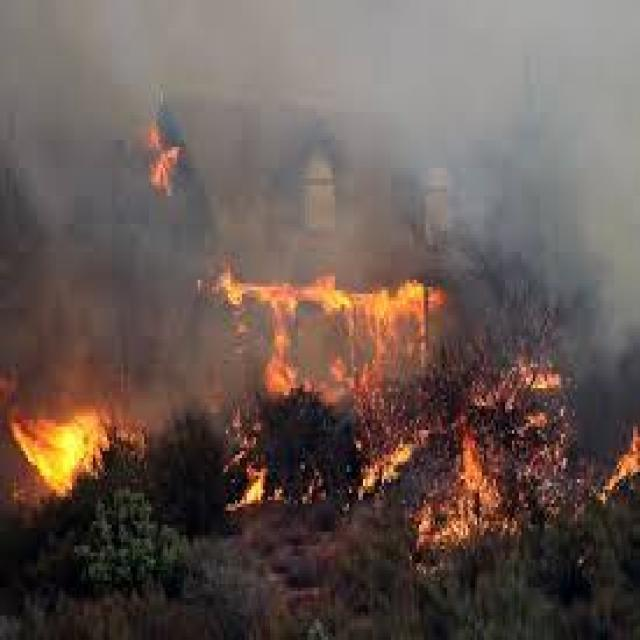Fire: (212, 264, 437, 506), (420, 422, 508, 572), (7, 404, 140, 502), (138, 122, 188, 211), (506, 358, 580, 402), (604, 420, 640, 508)
Smoke: (0, 0, 640, 430)
